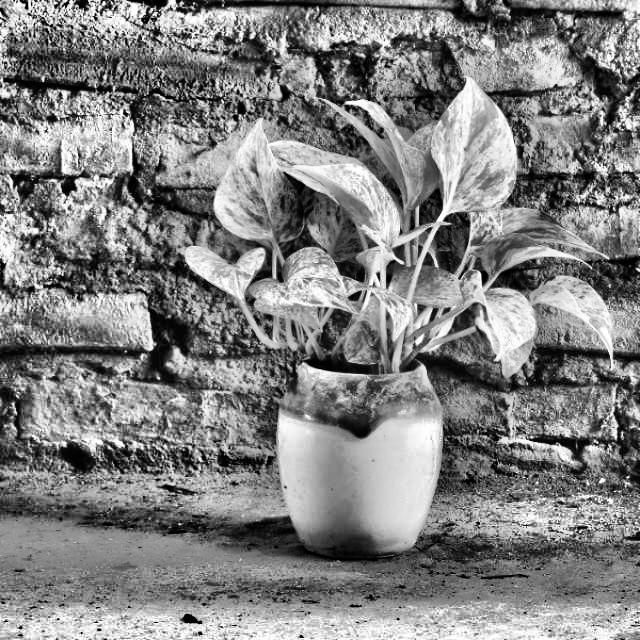plants: (187, 72, 619, 564)
